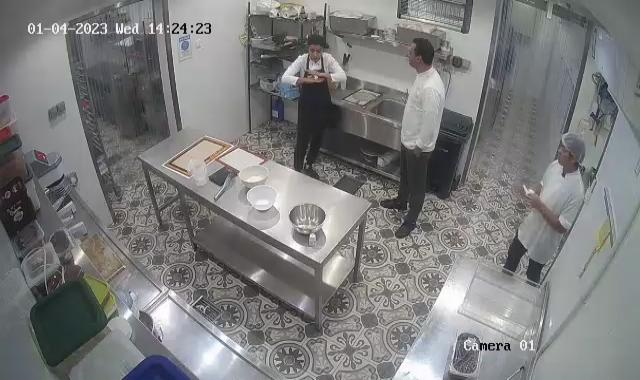hairnet: (559, 130, 586, 166)
no_hairnet: (413, 37, 434, 68), (308, 35, 325, 54)
